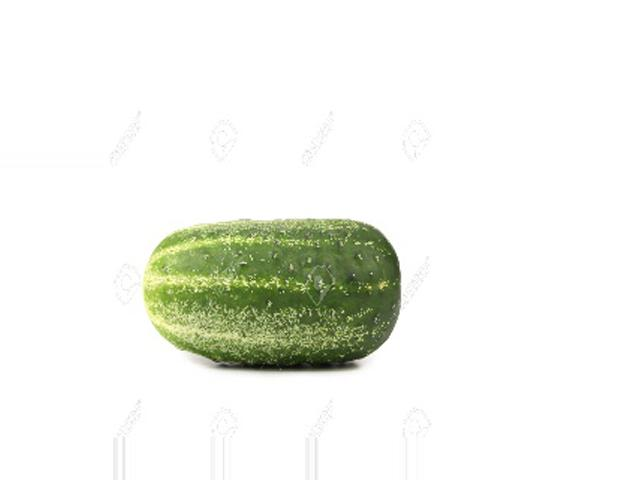cucumber: (145, 219, 403, 367)
